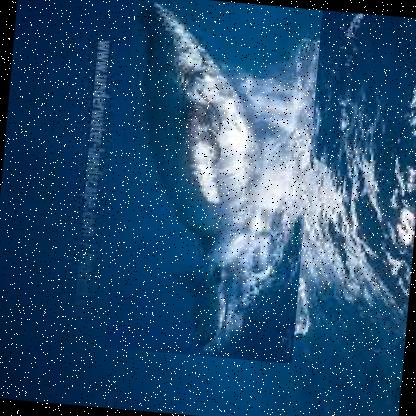blue_whale: (103, 0, 324, 365)
